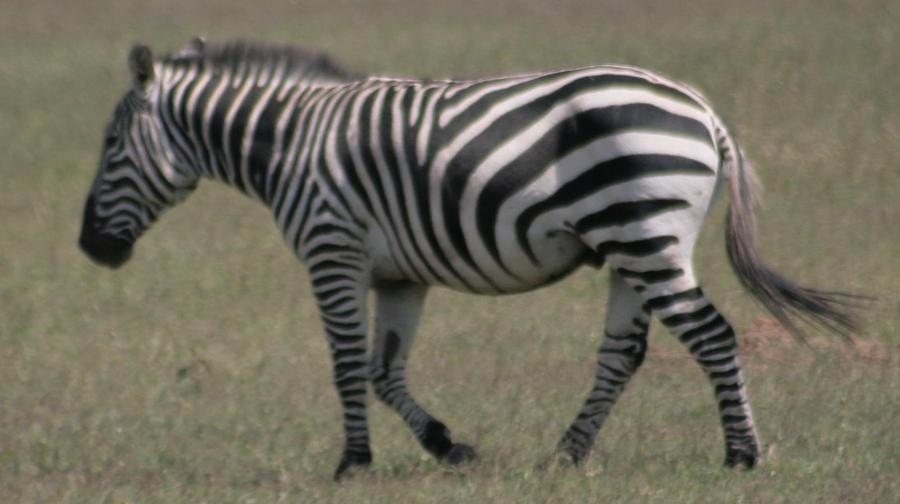zebra_plains: (242, 43, 738, 334)
